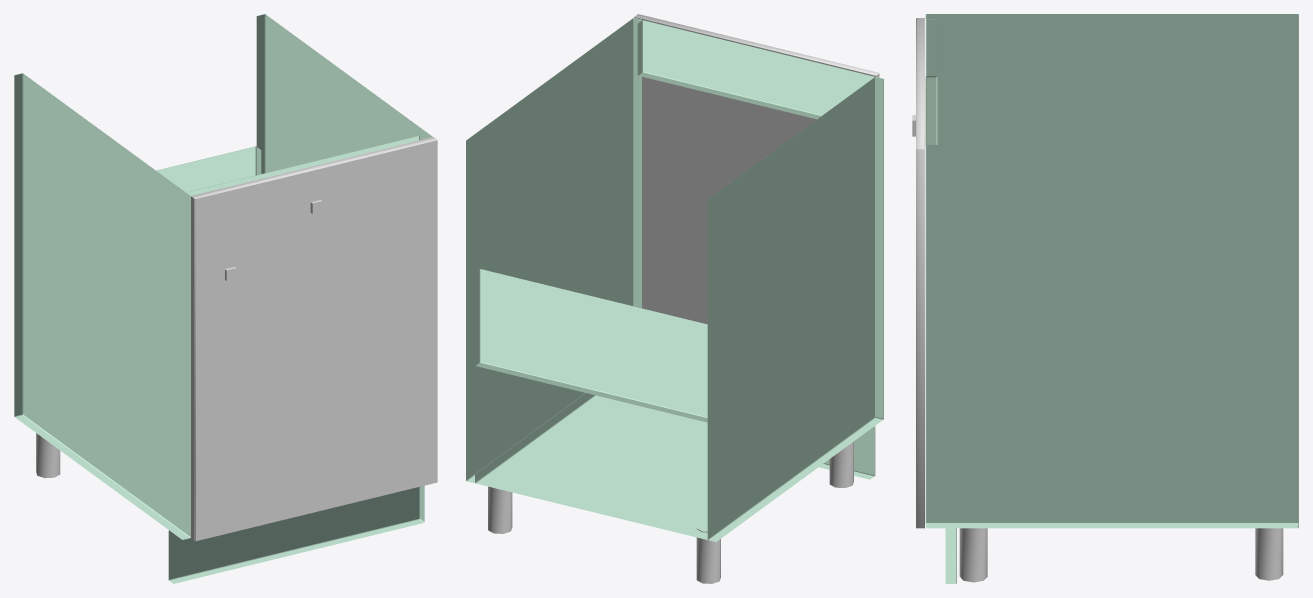
The picture shows the model from 3 angles, left to right: view 1: azimuth 30°, elevation 25°; view 2: azimuth 150°, elevation 25°; view 3: azimuth 270°, elevation 25°; orthographic projection. The views are drawn at different scales.
Visible parts, largest first — view 1: M_CL_1, M_CL_1_F.011, M_CL_1_F_C.011, Legs.007; view 2: M_CL_1, M_CL_1_F_A.011, Legs.007, M_CL_1_F_B.011, M_CL_1_F.011; view 3: M_CL_1, M_CL_1_F.011, Legs.007.
Part boxes in pixels (bbox=[...]): M_CL_1: bbox=[14, 14, 432, 583]; M_CL_1_F.011: bbox=[192, 137, 437, 541]; M_CL_1_F_C.011: bbox=[191, 196, 194, 539]; Legs.007: bbox=[36, 433, 60, 478]; M_CL_1: bbox=[466, 18, 883, 541]; M_CL_1_F_A.011: bbox=[634, 17, 878, 323]; Legs.007: bbox=[488, 441, 853, 583]; M_CL_1_F_B.011: bbox=[756, 46, 878, 163]; M_CL_1_F.011: bbox=[634, 14, 879, 77]; M_CL_1: bbox=[925, 14, 1298, 583]; M_CL_1_F.011: bbox=[916, 18, 924, 528]; Legs.007: bbox=[959, 528, 1283, 582].
Bounding box in the file's own units: 4.04 × 6.08 × 4.85.
